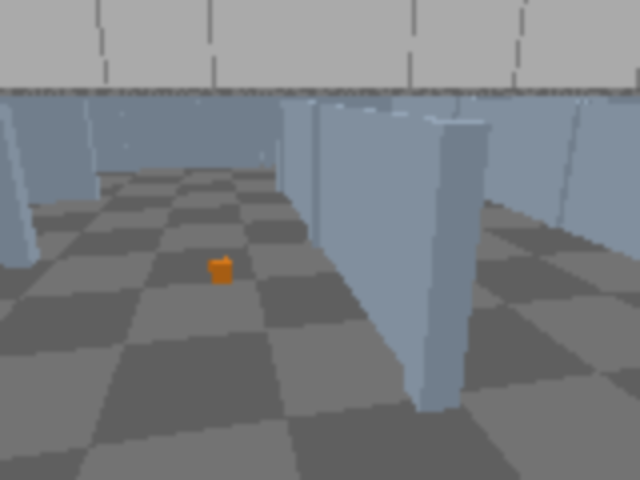puck: (209, 257, 233, 285)
